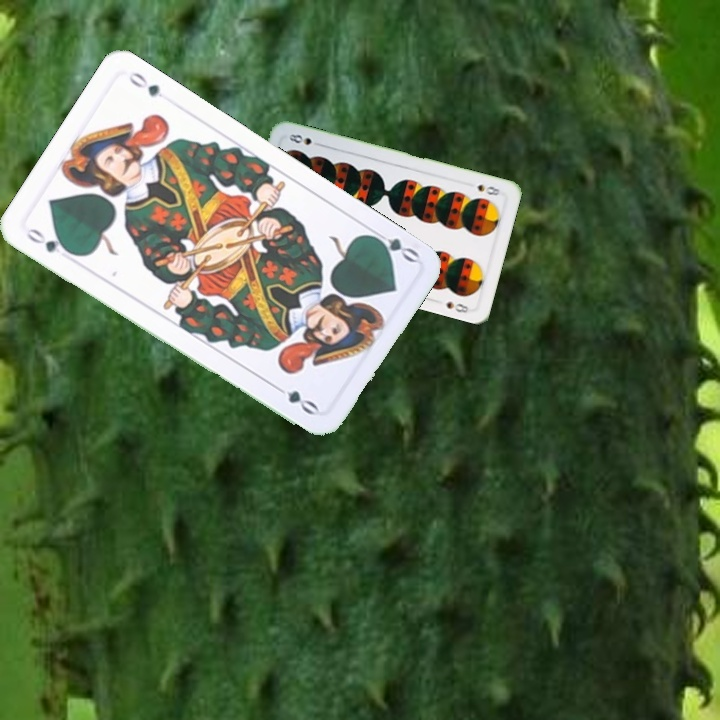GO: (365, 225, 422, 266), (22, 224, 77, 258)
S8: (473, 180, 503, 198)
